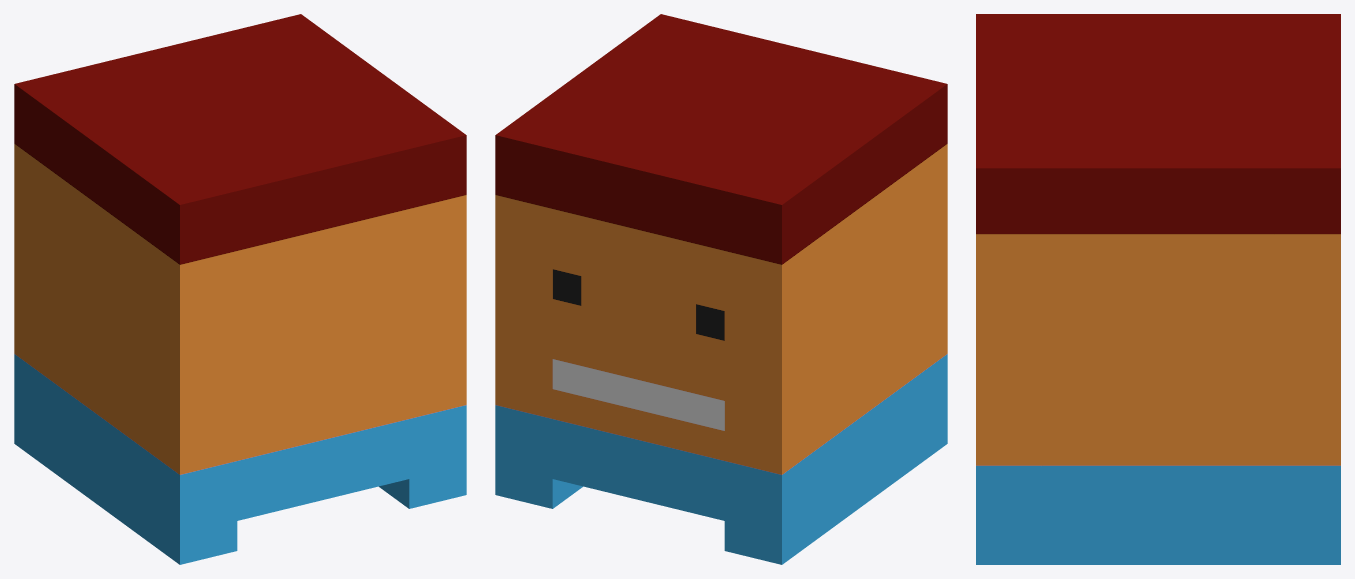
The model's file is Character_8.fbx.
3 views of the same model, side by side, from view 1: azimuth 30°, elevation 25°; view 2: azimuth 150°, elevation 25°; view 3: azimuth 270°, elevation 25° (orthographic). The views are drawn at different scales.
Parts seen in each view (by area): view 1: Character_8; view 2: Character_8; view 3: Character_8.
Part boxes in pixels (x1,y1,x2,y2): Character_8: [14, 14, 466, 564]; Character_8: [495, 14, 947, 564]; Character_8: [976, 14, 1340, 564].
Size of the model in its own units: 10 by 12 by 10.
Materials: 1 (1 with a texture image).
